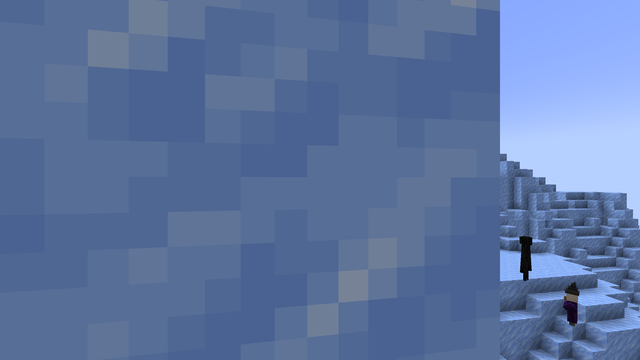endermens: (517, 234, 533, 280)
sorcieres: (562, 289, 581, 327)
